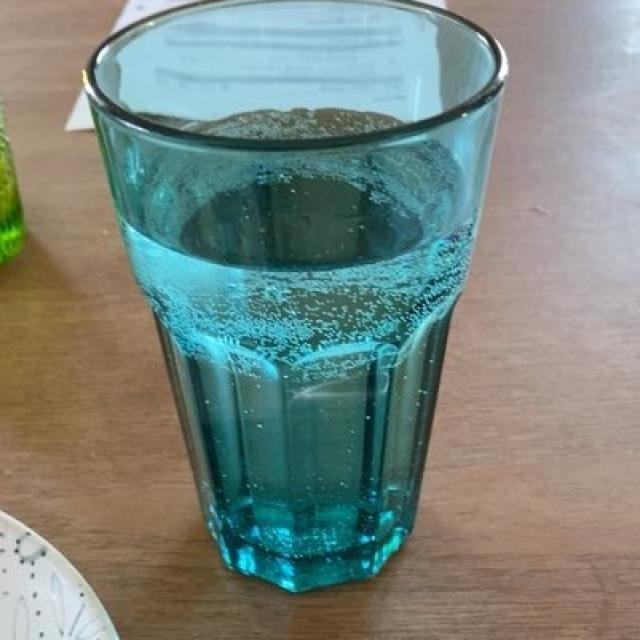water: (120, 118, 460, 586)
